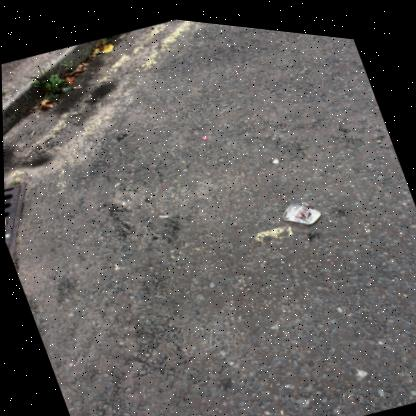Plastic: (281, 194, 318, 216), (199, 130, 206, 134)
Waste: (71, 83, 79, 86), (29, 129, 33, 133)
